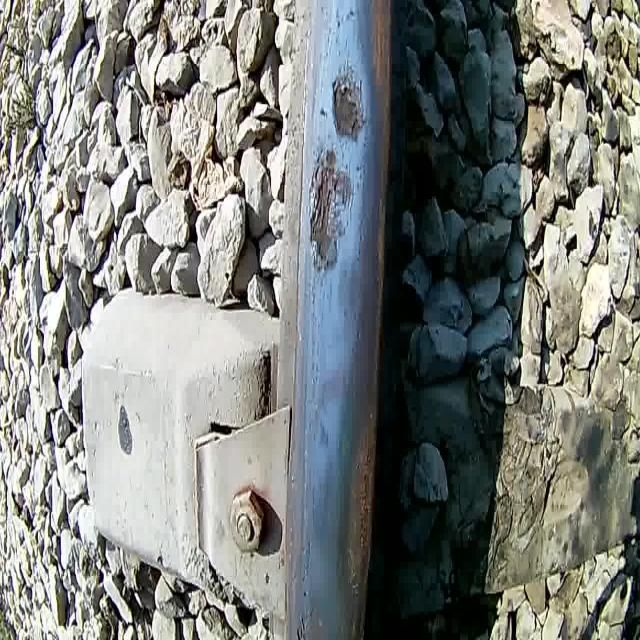Spallings: (301, 140, 359, 280), (352, 420, 380, 609), (326, 60, 372, 148), (290, 601, 312, 640)
Squats: (314, 0, 398, 640)
